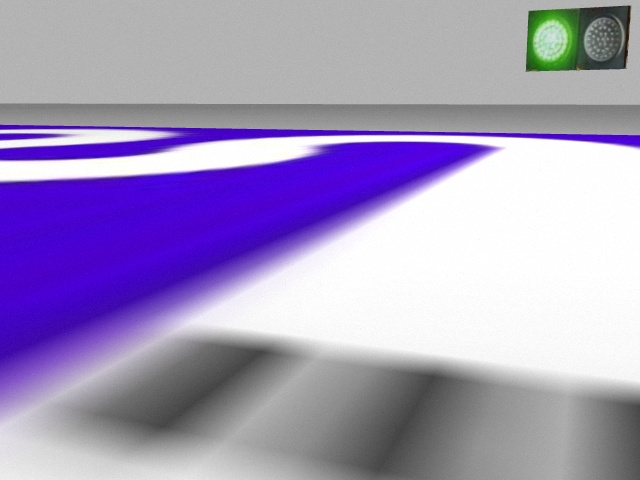green: (529, 10, 578, 71)
